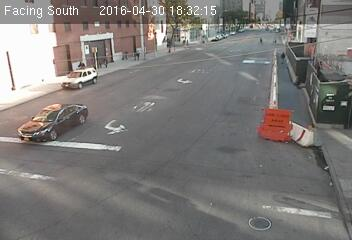neg: (198, 112, 228, 151), (266, 105, 294, 142), (58, 105, 85, 141), (179, 151, 205, 186), (146, 73, 172, 107), (83, 51, 109, 85), (67, 195, 92, 229), (305, 30, 329, 62), (316, 85, 337, 114), (102, 137, 123, 165), (248, 61, 267, 86), (196, 30, 215, 55), (263, 192, 279, 213), (42, 38, 57, 58)
